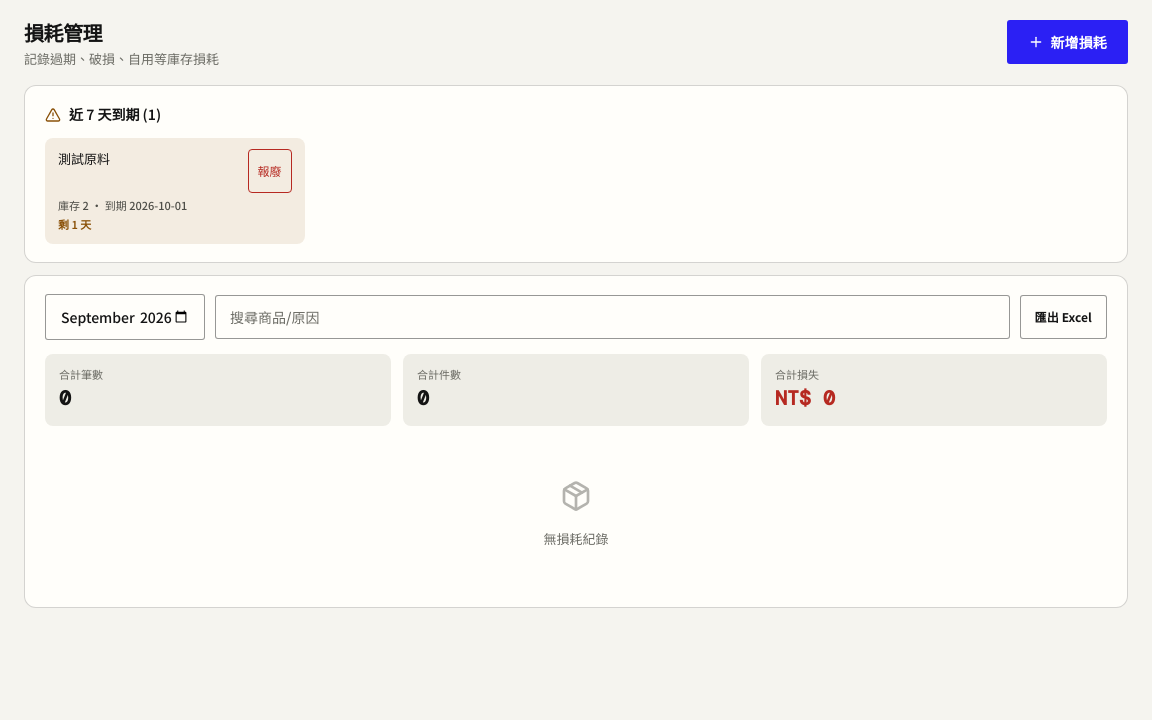
Test: invalid or unavailable quantity 3 stays visible without a mutation
The image size is (1152, 720).
Click the button "新增損耗".
click(1068, 42)  # box [1007,20,1128,64]
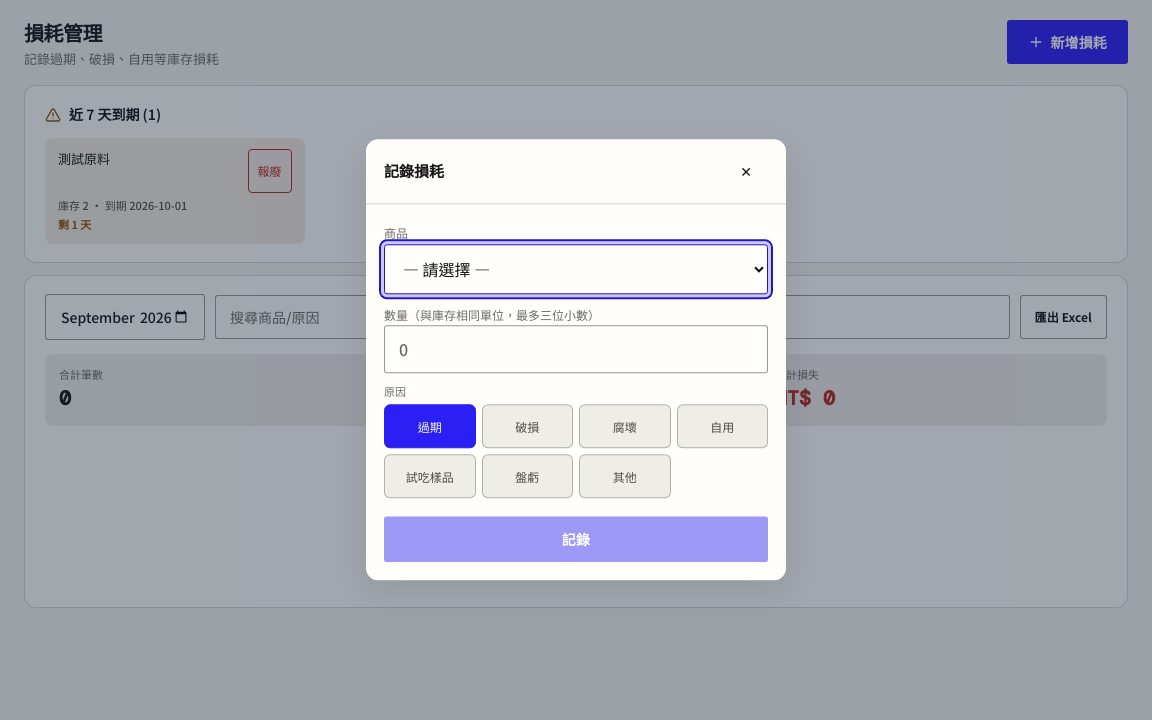
Select "測試原料 (庫存 2)" in the dropdown at (576, 269), box [384,244,768,294]
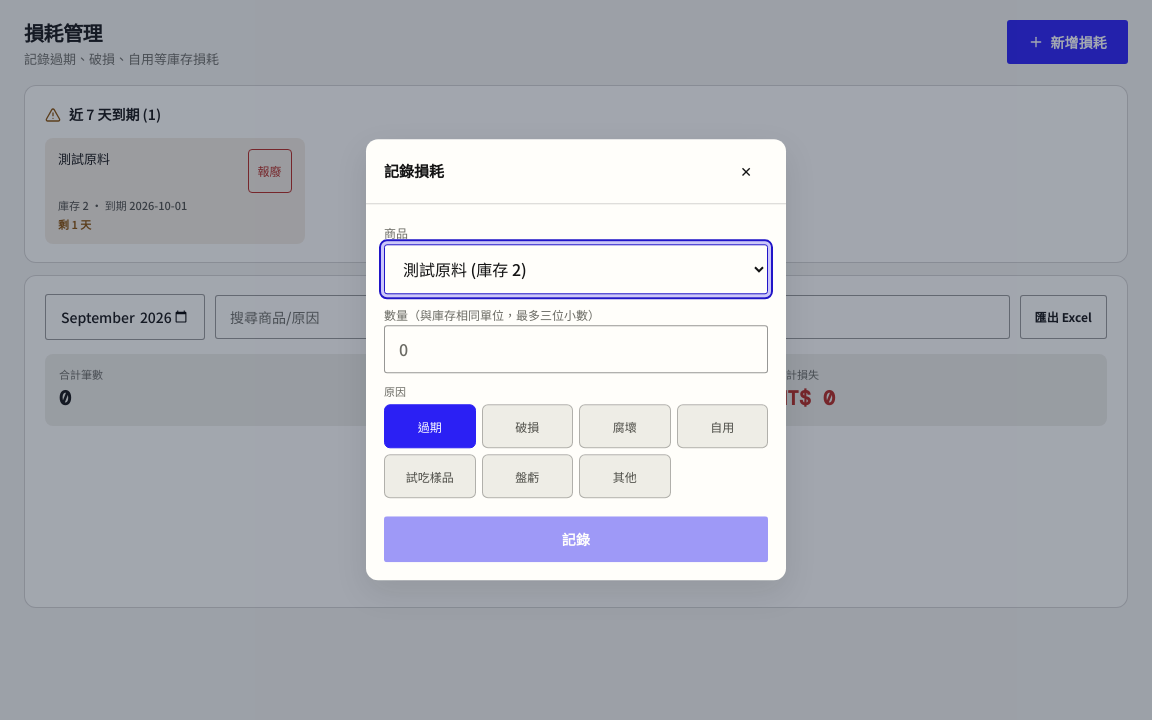
Type "3" into the number field.
click(576, 350); type("3")  # box [384,326,768,374]
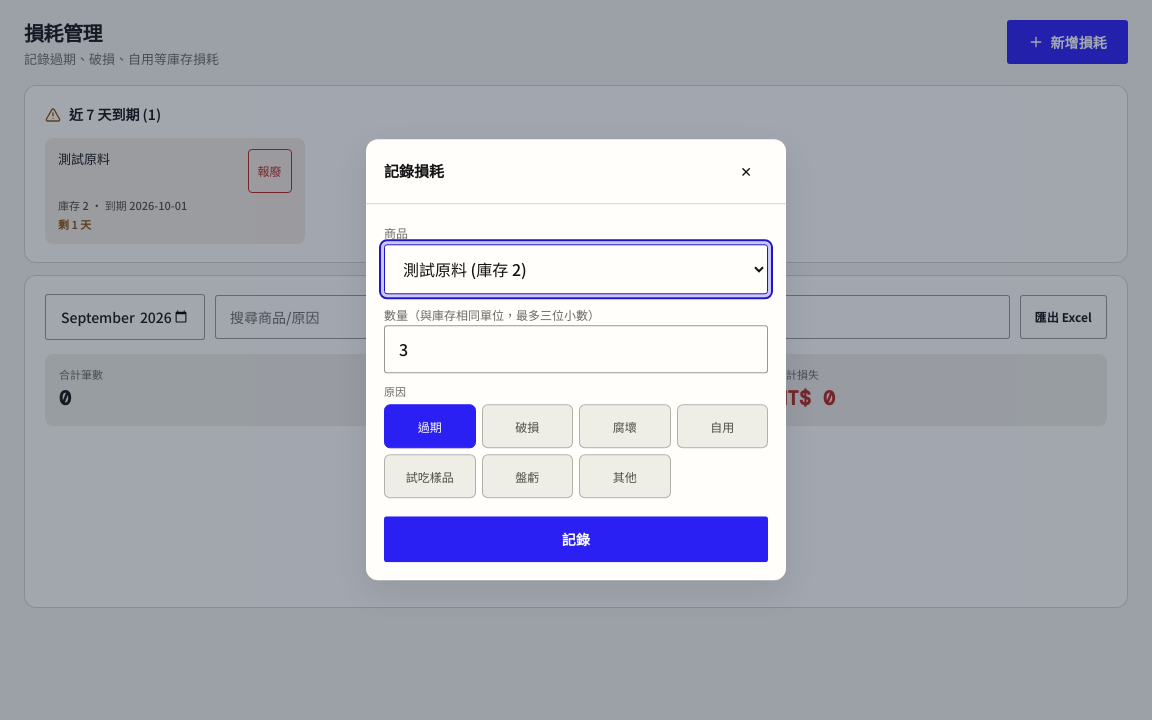
Click the button "記錄".
click(576, 540)  # box [384,517,768,563]
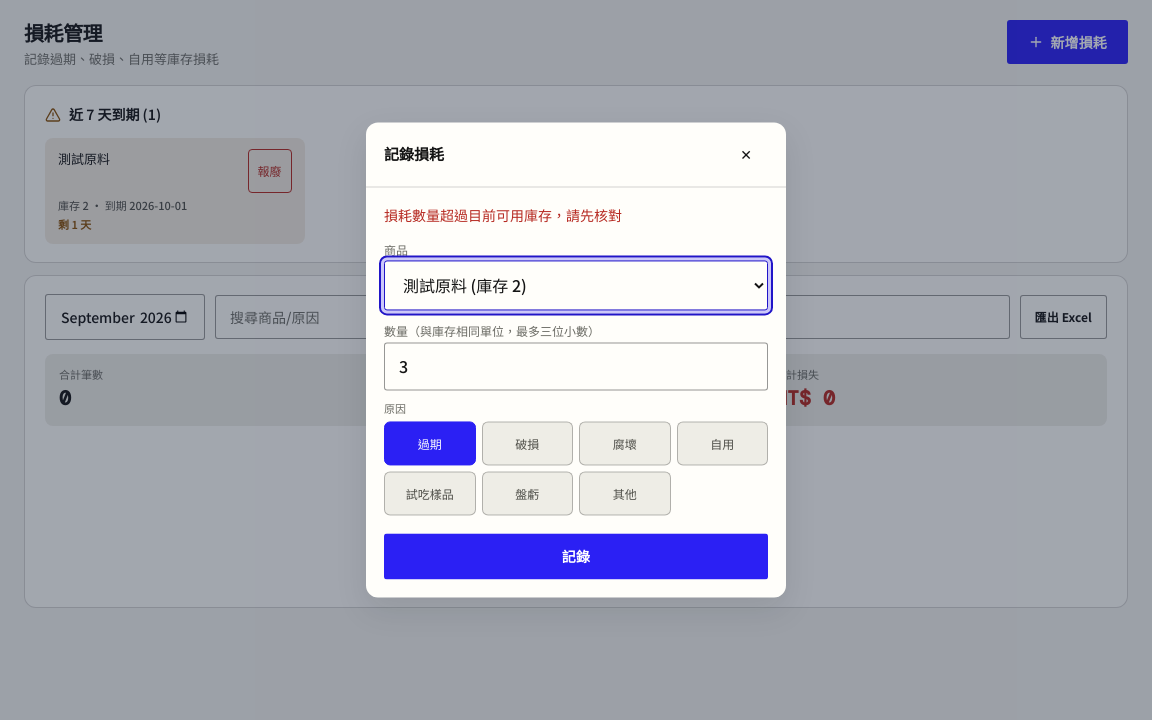
Check: the message reads "損耗數量超過目前可用庫存，請先核對", box [384,205,622,225]
